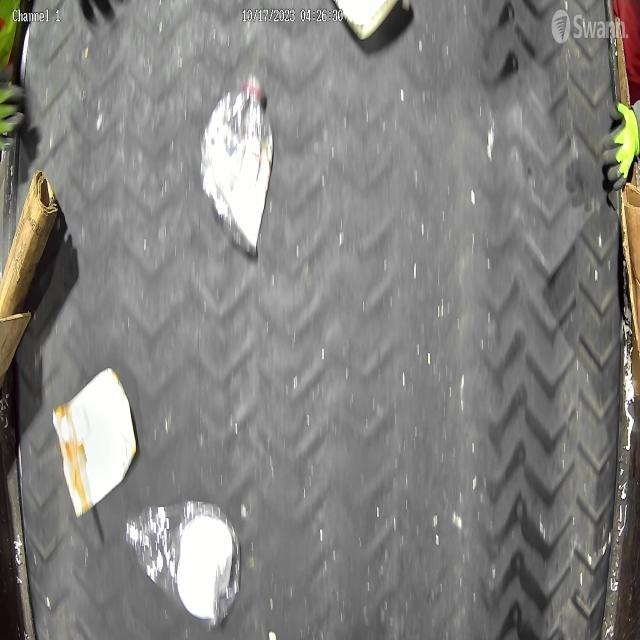plastic_bottle: (124, 500, 240, 622), (200, 72, 272, 249)
